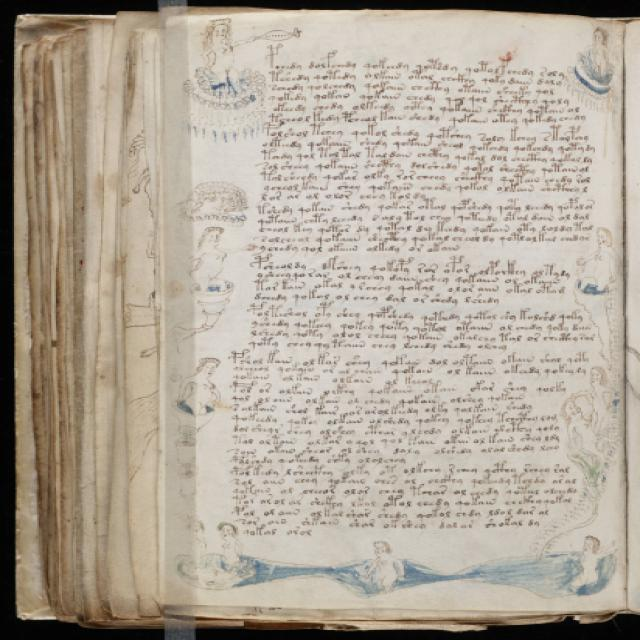person: (173, 354, 230, 421), (572, 223, 623, 297), (182, 225, 238, 291), (196, 15, 239, 96), (563, 533, 619, 594), (207, 517, 258, 577), (360, 537, 404, 596)
